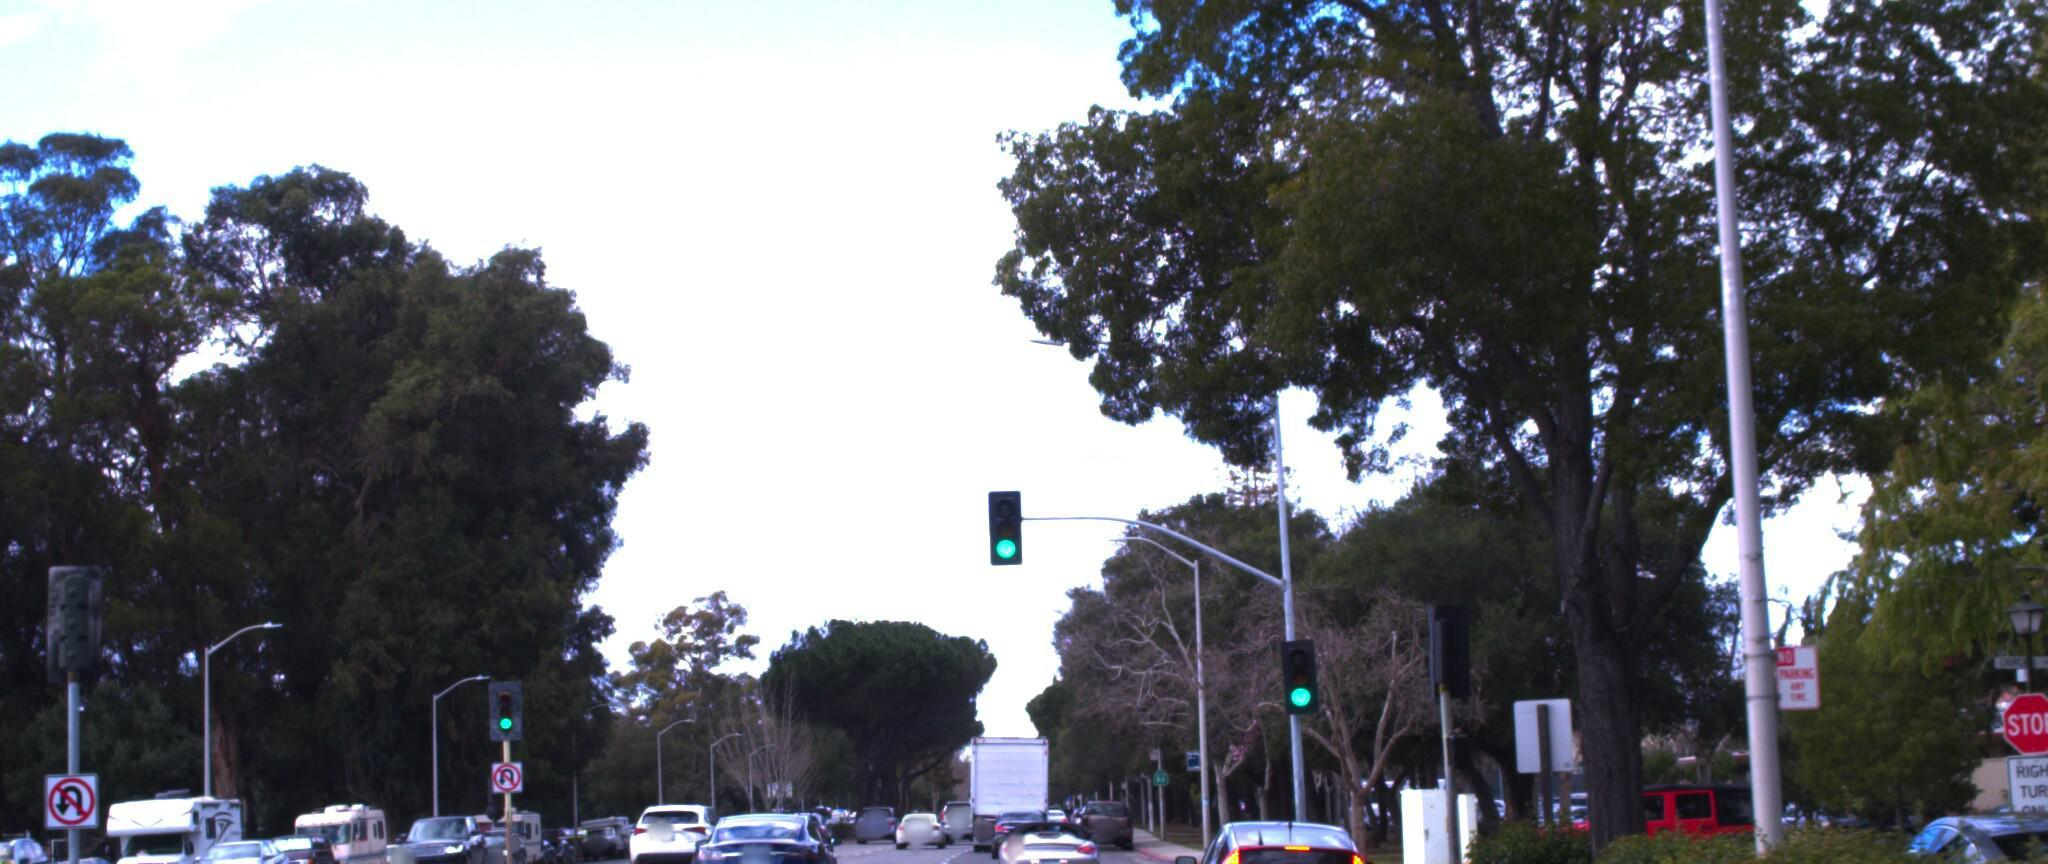car: (1462, 752, 1783, 864), (1766, 777, 2048, 864), (1168, 786, 1387, 864), (0, 801, 217, 864), (680, 787, 839, 864), (976, 773, 1100, 864), (619, 770, 728, 857), (174, 810, 304, 864), (1994, 756, 2048, 864)
